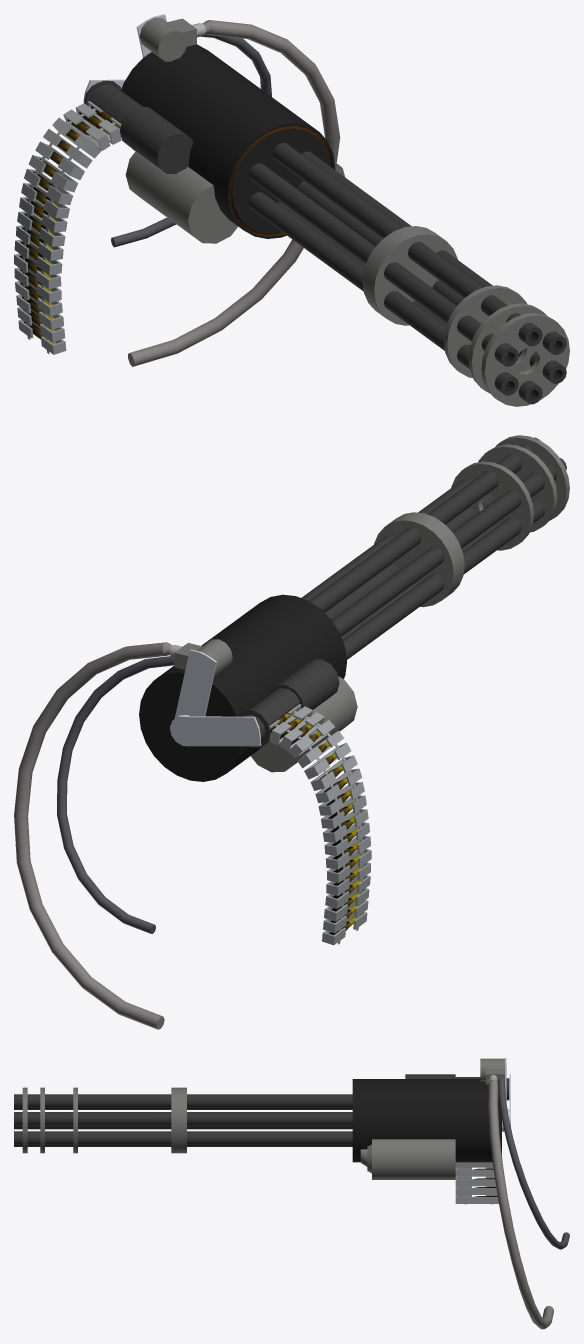
Rendered from gatling.fbx.
3 renders of one model, top to bottom at view 1: azimuth 30°, elevation 25°; view 2: azimuth 150°, elevation 25°; view 3: azimuth 270°, elevation 25°, orthographic. The views are drawn at different scales.
Visible parts, largest first — view 1: Group42, Group60, Group51, Group48, Group52, Group50, Group57, Group49, Group46, Group47, Group44, Group43 (+21 smaller); view 2: Group42, Group60, Group51, Group48, Group59, Group50, Group57, Group46, Group58, Group52, Group47, Group55 (+5 smaller); view 3: Group42, Group43, Group44, Group48, Group53, Group60, Group50, Group59, Group46, Group45, Group51, Group54 (+5 smaller).
Part boxes in pixels (x1=…): Group42: x1=121, y1=44, x2=335, y2=238; Group60: x1=128, y1=20, x2=340, y2=366; Group51: x1=248, y1=163, x2=518, y2=366; Group48: x1=272, y1=143, x2=542, y2=346; Group52: x1=125, y1=151, x2=237, y2=243; Group50: x1=248, y1=192, x2=518, y2=395; Group57: x1=84, y1=80, x2=193, y2=173; Group49: x1=481, y1=313, x2=569, y2=406; Group46: x1=362, y1=226, x2=457, y2=325; Group47: x1=443, y1=285, x2=526, y2=377; Group44: x1=297, y1=181, x2=566, y2=383; Group43: x1=301, y1=151, x2=566, y2=354; Group42: x1=139, y1=594, x2=346, y2=781; Group60: x1=14, y1=642, x2=171, y2=1029; Group51: x1=332, y1=457, x2=566, y2=636; Group48: x1=309, y1=437, x2=539, y2=612; Group59: x1=57, y1=655, x2=174, y2=933; Group50: x1=342, y1=500, x2=557, y2=659; Group57: x1=236, y1=659, x2=339, y2=748; Group46: x1=374, y1=512, x2=464, y2=607; Group58: x1=170, y1=714, x2=261, y2=746; Group52: x1=251, y1=676, x2=357, y2=772; Group47: x1=451, y1=461, x2=534, y2=550; Group55: x1=174, y1=649, x2=216, y2=718; Group42: x1=352, y1=1079, x2=501, y2=1162; Group43: x1=14, y1=1112, x2=352, y2=1125; Group44: x1=14, y1=1131, x2=352, y2=1144; Group48: x1=14, y1=1094, x2=352, y2=1107; Group53: x1=360, y1=1139, x2=455, y2=1179; Group60: x1=488, y1=1080, x2=553, y2=1329; Group50: x1=14, y1=1125, x2=352, y2=1129; Group59: x1=497, y1=1078, x2=569, y2=1249; Group46: x1=171, y1=1087, x2=186, y2=1153; Group45: x1=14, y1=1145, x2=352, y2=1146; Group51: x1=14, y1=1108, x2=352, y2=1109; Group54: x1=480, y1=1058, x2=504, y2=1084.
Bounding box in the file's own units: 14.55 × 15.8 × 31.6.
